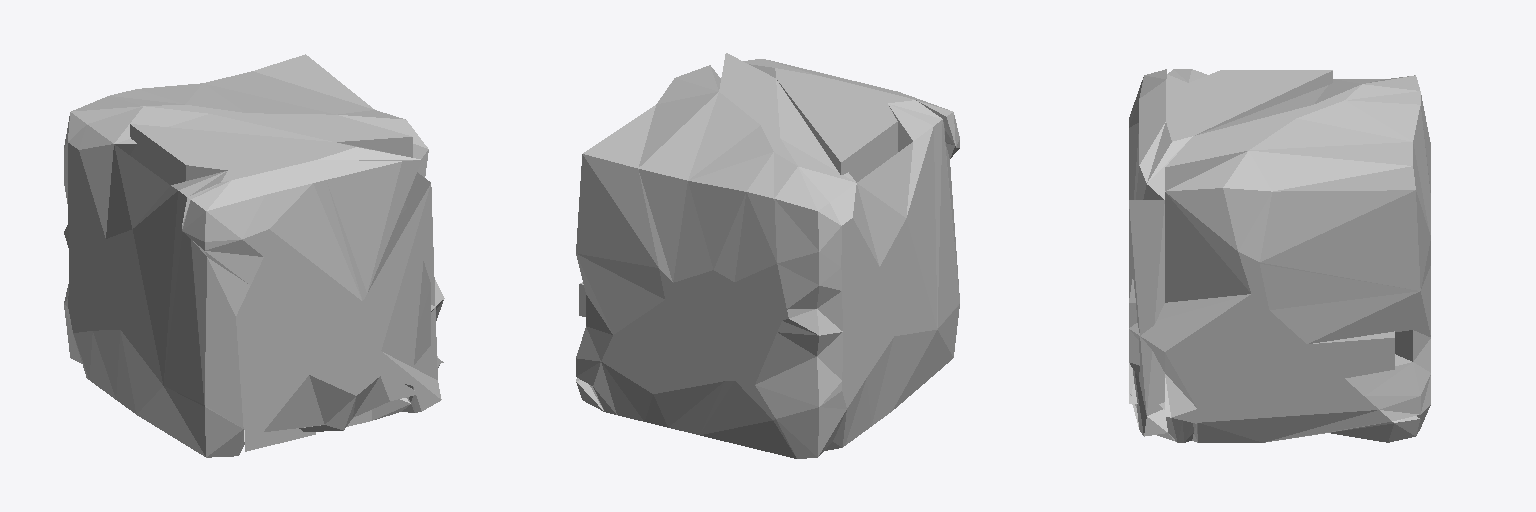
The model's file is Shatterd06.obj.
3 views of the same model, side by side, from view 1: azimuth 30°, elevation 25°; view 2: azimuth 150°, elevation 25°; view 3: azimuth 270°, elevation 25° (orthographic).
Visible parts, largest first — view 1: Shatterd06; view 2: Shatterd06; view 3: Shatterd06.
Boxes of the visible parts, <box> form: Shatterd06: <box>64,54,444,457</box>; Shatterd06: <box>576,53,959,458</box>; Shatterd06: <box>1129,69,1430,442</box>.
Bounding box in the file's own units: 2.15 × 2.15 × 2.15.